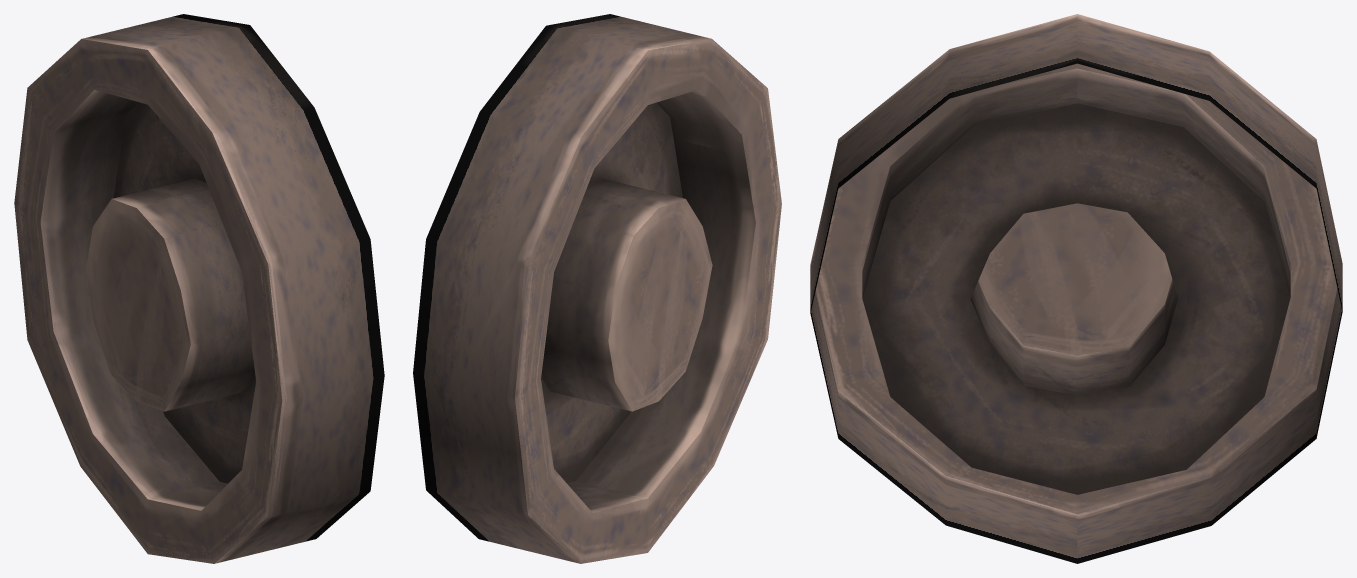
File: Obj_circulito_interaccion.fbx
3 views of the same model, side by side, from view 1: azimuth 30°, elevation 25°; view 2: azimuth 150°, elevation 25°; view 3: azimuth 270°, elevation 25° (orthographic).
Visible parts, largest first — view 1: Obj_circulito_interaccion; view 2: Obj_circulito_interaccion; view 3: Obj_circulito_interaccion.
Boxes of the visible parts, <box> form: Obj_circulito_interaccion: <box>14,14,384,563</box>; Obj_circulito_interaccion: <box>413,14,781,563</box>; Obj_circulito_interaccion: <box>810,14,1342,563</box>.
Bounding box in the file's own units: 17.35 × 73.81 × 71.12.
